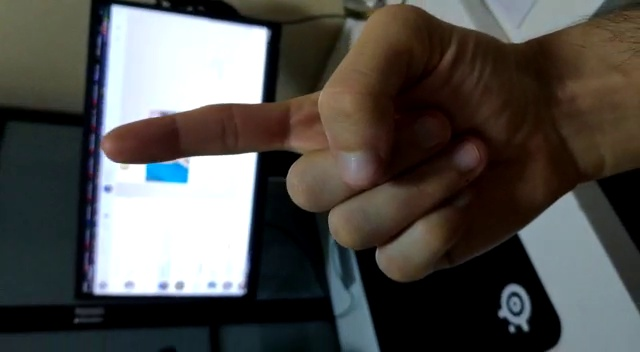One: (67, 1, 620, 298)
